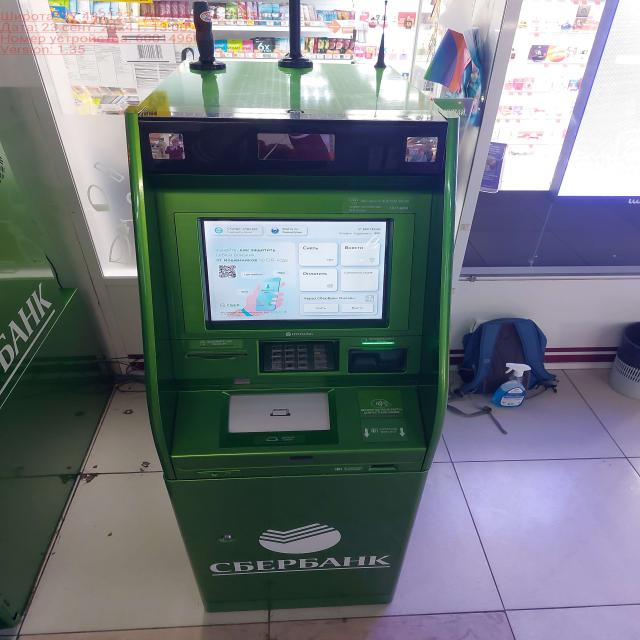bank: (127, 61, 459, 617), (0, 0, 131, 640)
